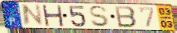5: (67, 5, 88, 28)
7: (138, 7, 156, 28)
B: (114, 5, 138, 29)
H: (41, 4, 65, 27)
N: (21, 4, 45, 27)
S: (88, 5, 111, 28)
